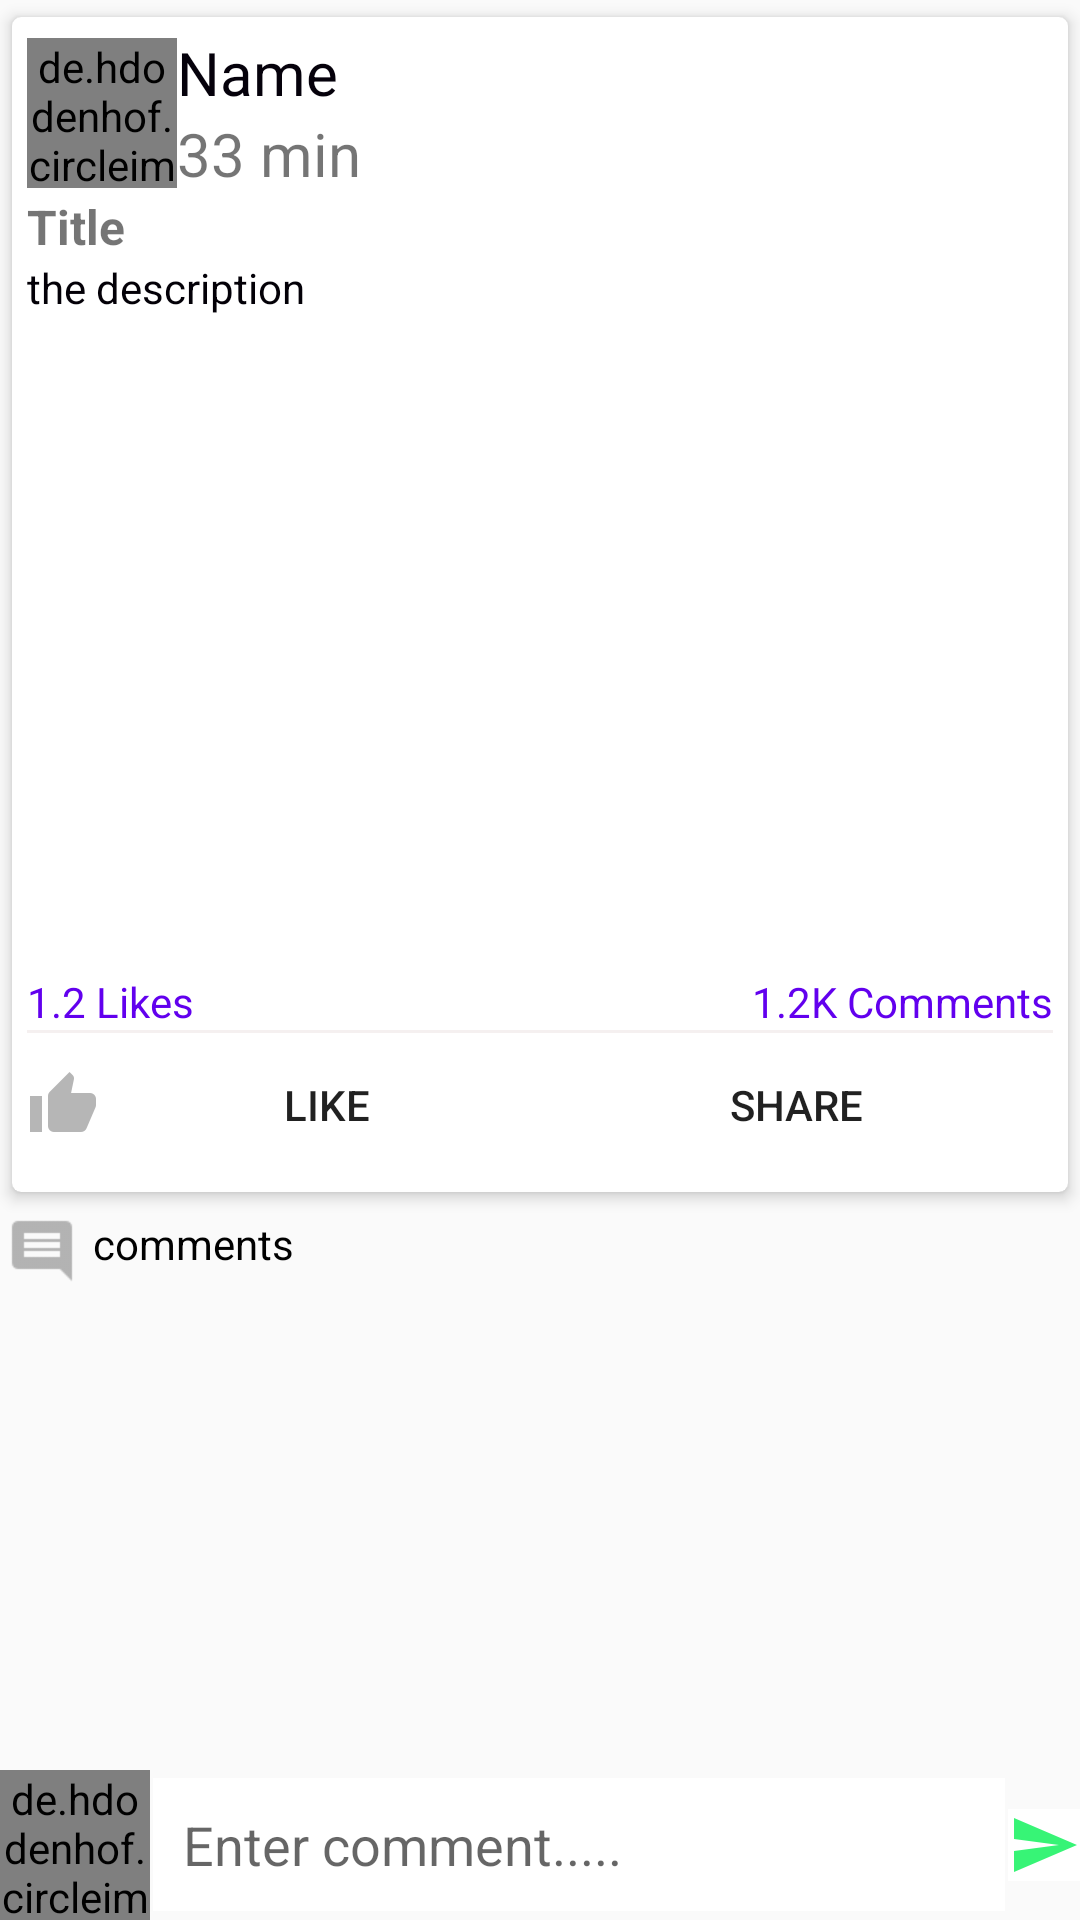

Screen size 1080w x 1920h. Icon name, then its box in pixels as (x1, y1, x2, y2):
send: (1014, 1818, 1077, 1872)
